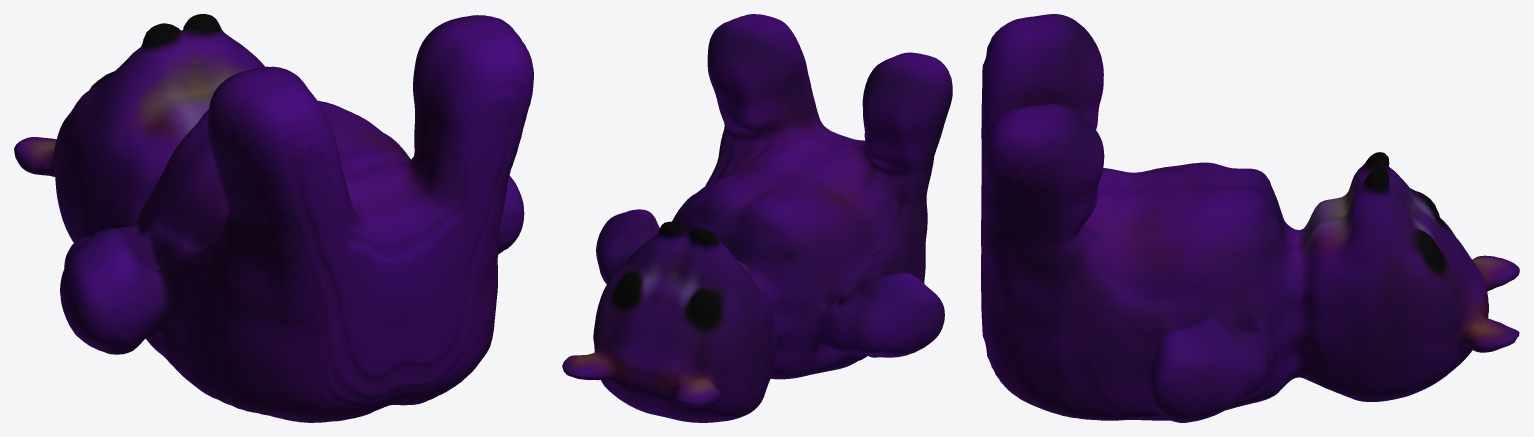
3 views of the same model, side by side, from view 1: azimuth 30°, elevation 25°; view 2: azimuth 150°, elevation 25°; view 3: azimuth 270°, elevation 25° (orthographic). The views are drawn at different scales.
Visible parts, largest first — view 1: plyFile; view 2: plyFile; view 3: plyFile.
Part boxes in pixels (x1,y1,x2,y2): plyFile: (14,14,533,422); plyFile: (562,14,952,422); plyFile: (981,14,1519,422).
Size of the model in its own units: 167 by 129 by 198.
